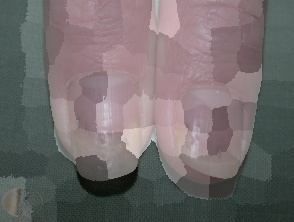Nail_psoriasis: (54, 55, 154, 190), (157, 66, 258, 186)
